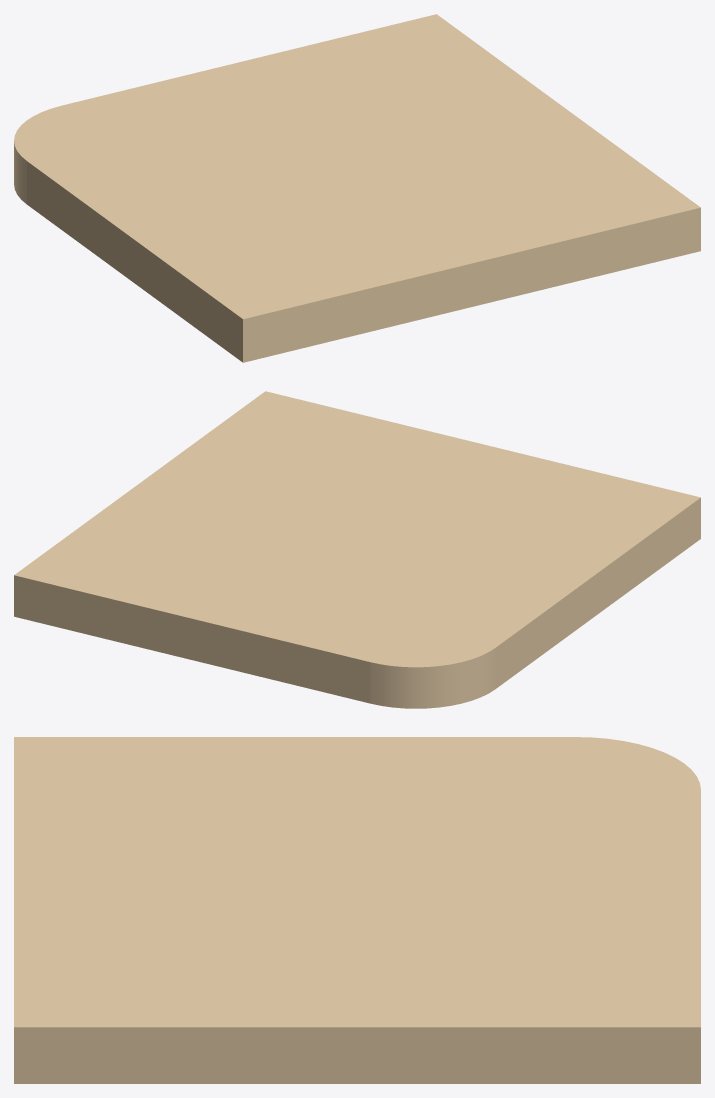
File: floorCornerRound.glb
3 views of the same model, one above another, from view 1: azimuth 30°, elevation 25°; view 2: azimuth 150°, elevation 25°; view 3: azimuth 270°, elevation 25° (orthographic). The views are drawn at different scales.
Parts seen in each view (by area): view 1: floorCornerRound; view 2: floorCornerRound; view 3: floorCornerRound.
Boxes of the visible parts, x1,y1,x2,y2 form: floorCornerRound: (14, 14, 700, 362); floorCornerRound: (14, 391, 700, 708); floorCornerRound: (14, 737, 700, 1083).
Bounding box in the file's own units: 5.5 × 0.5 × 5.5.
